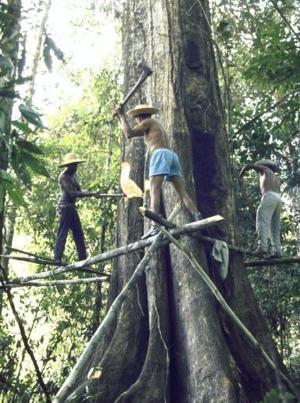person: (114, 102, 207, 241)
